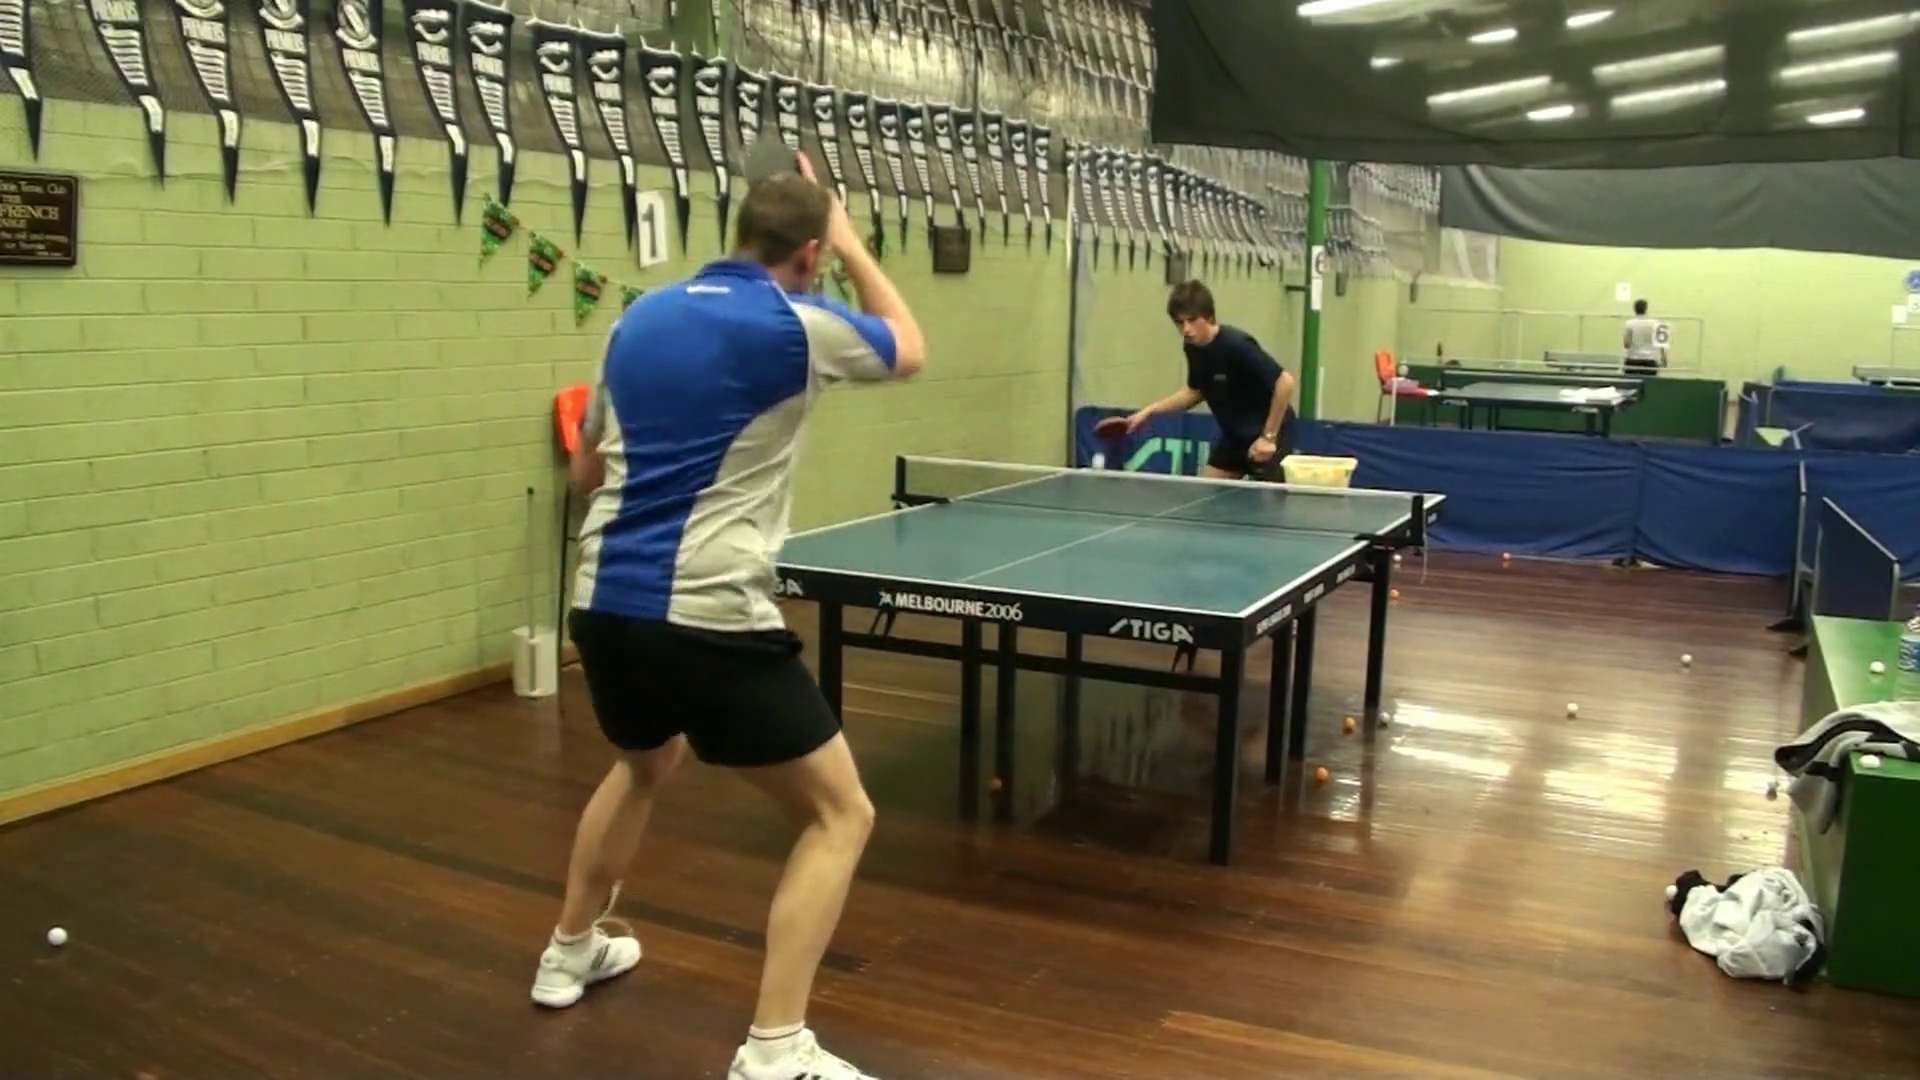person: (531, 152, 926, 1079), (1093, 281, 1302, 480)
